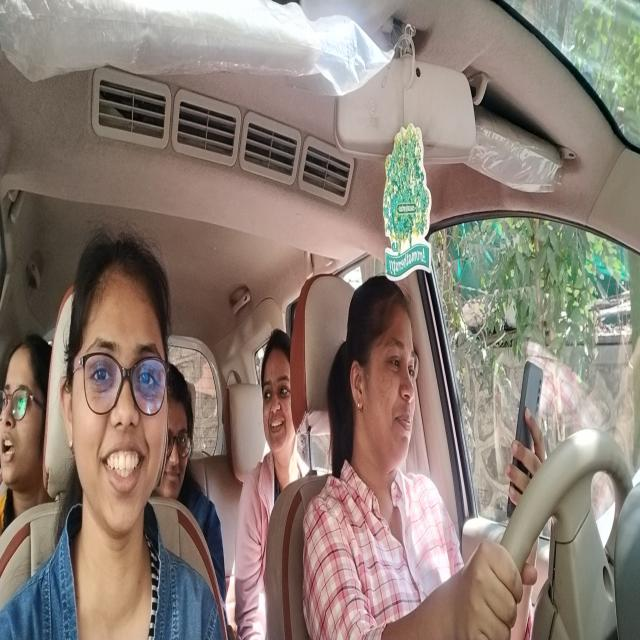mobile: (504, 354, 545, 523)
person: (60, 237, 169, 538), (344, 272, 420, 488), (0, 324, 52, 511), (162, 350, 195, 508), (260, 327, 296, 468)
